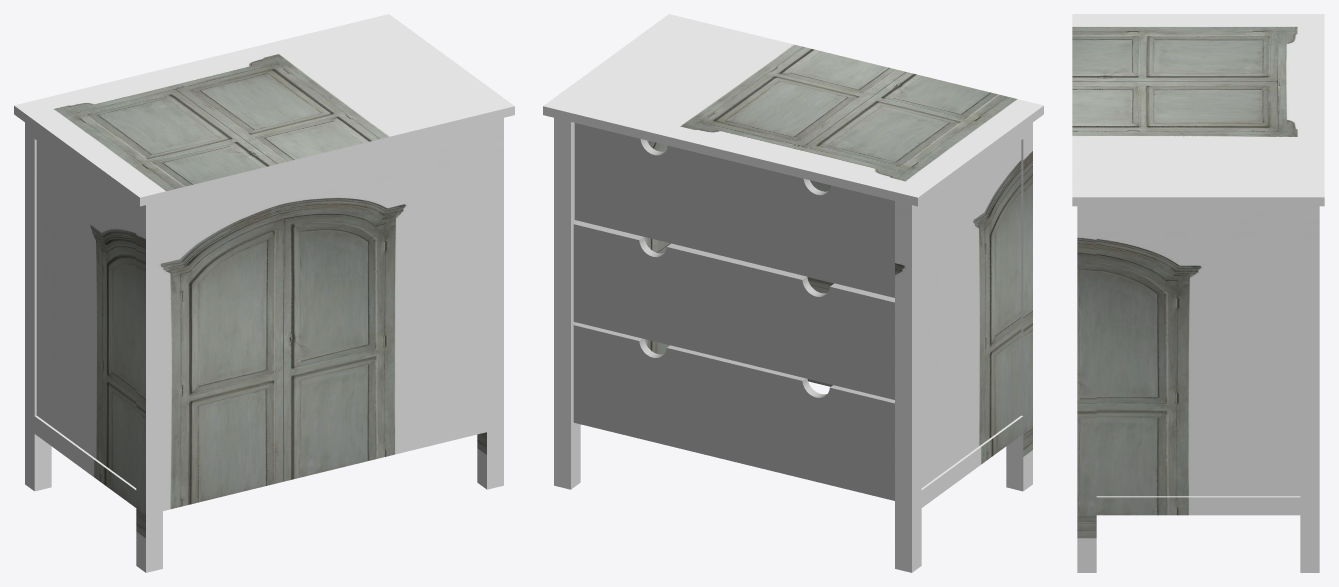
3 views of the same model, side by side, from view 1: azimuth 30°, elevation 25°; view 2: azimuth 150°, elevation 25°; view 3: azimuth 270°, elevation 25° (orthographic).
Visible parts, largest first — view 1: mesh3_mesh3-geometry; view 2: mesh3_mesh3-geometry, mesh1_mesh1-geometry; view 3: mesh3_mesh3-geometry.
Part boxes in pixels (x1,y1,x2,y2): mesh3_mesh3-geometry: (14, 14, 514, 572); mesh3_mesh3-geometry: (543, 14, 1043, 572); mesh1_mesh1-geometry: (573, 123, 894, 500); mesh3_mesh3-geometry: (1072, 14, 1324, 572).
Bounding box in the file's own units: 0.6634 × 0.6409 × 0.3861.
